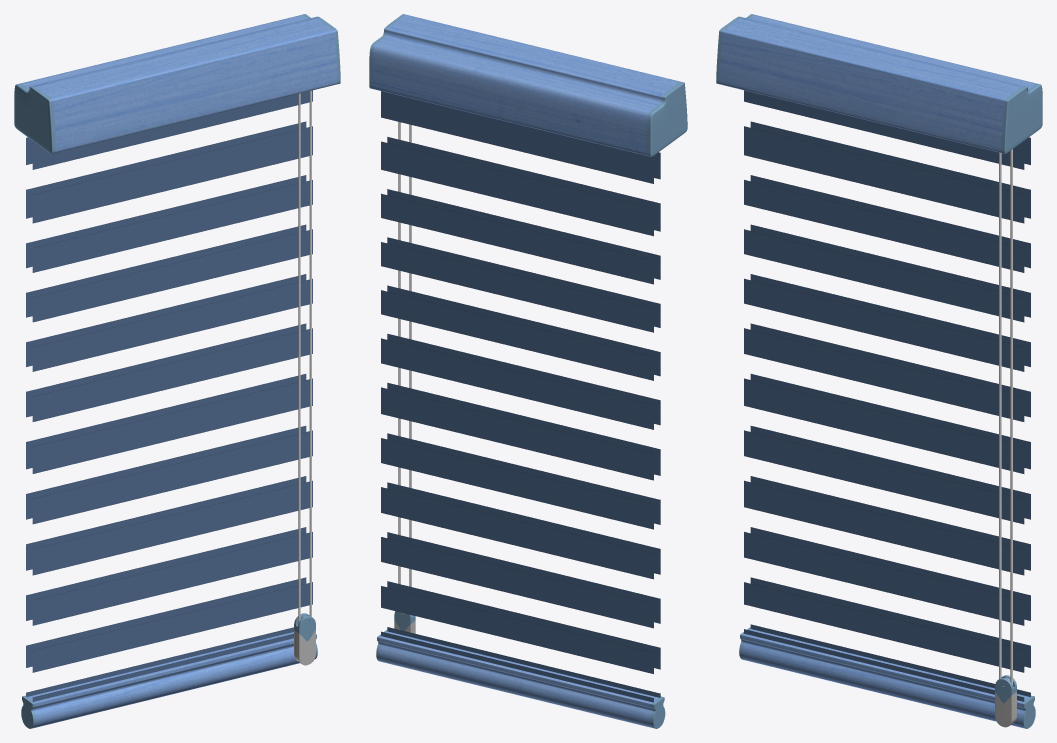
File: curtain_02_17.001.fbx
3 views of the same model, side by side, from view 1: azimuth 30°, elevation 25°; view 2: azimuth 150°, elevation 25°; view 3: azimuth 330°, elevation 25° (orthographic). The views are drawn at different scales.
Visible parts, largest first — view 1: curtain_02_17.001; view 2: curtain_02_17.001; view 3: curtain_02_17.001.
Part boxes in pixels (x1=…): curtain_02_17.001: x1=14, y1=14, x2=340, y2=728; curtain_02_17.001: x1=369, y1=14, x2=687, y2=728; curtain_02_17.001: x1=716, y1=14, x2=1042, y2=728.
Bounding box in the file's own units: 51.11 × 109 × 11.73.
Materials: 1 (1 with a texture image).
